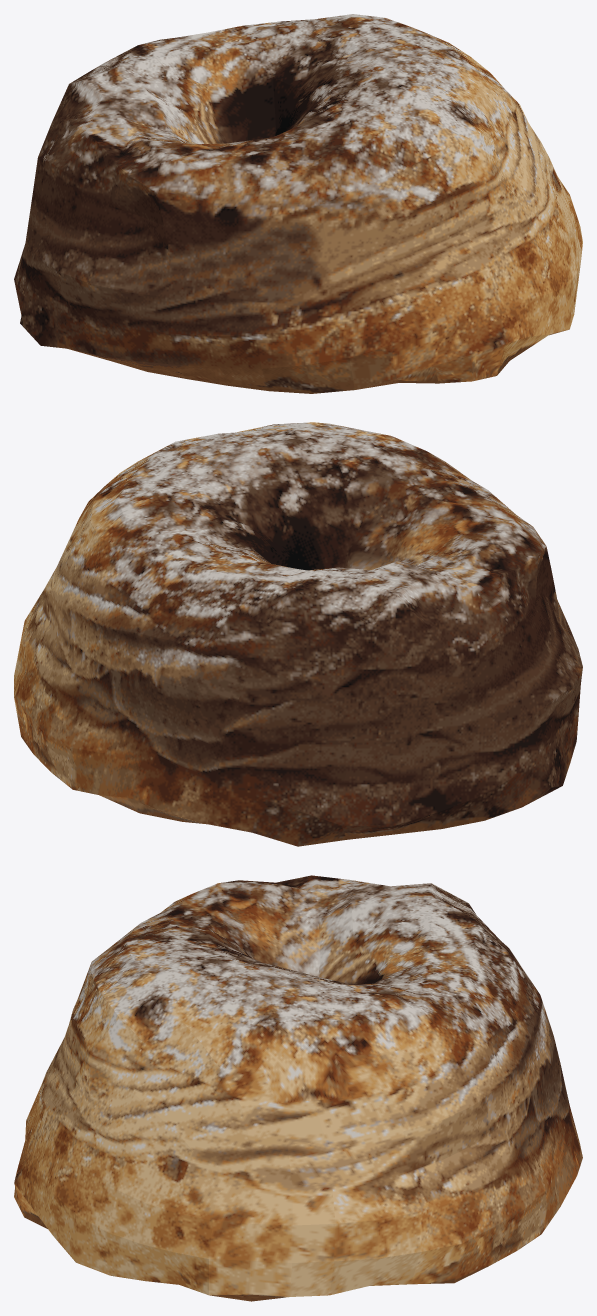
File: 1741289670961-low_poly_paris-brest.glb
The picture shows the model from 3 angles, top to bottom: view 1: azimuth 30°, elevation 25°; view 2: azimuth 150°, elevation 25°; view 3: azimuth 270°, elevation 25°; orthographic projection. The views are drawn at different scales.
Parts seen in each view (by area): view 1: Object_4; view 2: Object_4; view 3: Object_4.
Part boxes in pixels (bbox=[...]): Object_4: bbox=[14, 14, 582, 393]; Object_4: bbox=[14, 422, 582, 846]; Object_4: bbox=[14, 875, 582, 1301].
Size of the model in its own units: 0.1905 by 0.0847 by 0.1764.
1 material, 1 textured.
